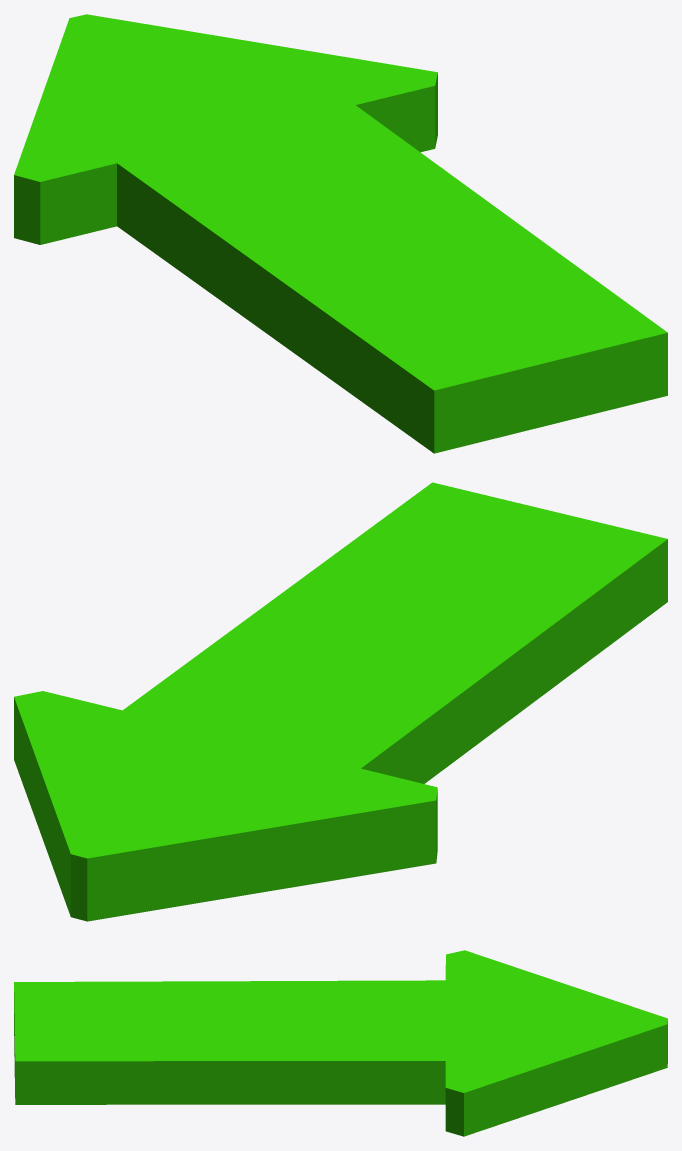
Rendered from arrow.fbx.
3 views of the same model, one above another, from view 1: azimuth 30°, elevation 25°; view 2: azimuth 150°, elevation 25°; view 3: azimuth 270°, elevation 25° (orthographic). The views are drawn at different scales.
Parts seen in each view (by area): view 1: pCube1; view 2: pCube1; view 3: pCube1.
Part boxes in pixels (x1,y1,x2,y2): pCube1: (14,14,667,453); pCube1: (14,482,667,921); pCube1: (14,950,667,1136).
Size of the model in its own units: 1.38 by 0.1969 by 2.68.
